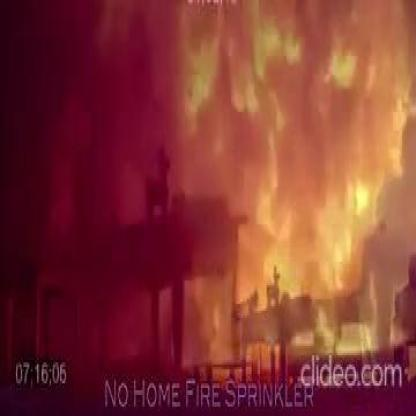fire: (179, 2, 414, 192), (239, 192, 371, 299), (186, 283, 231, 362), (294, 325, 400, 355)
